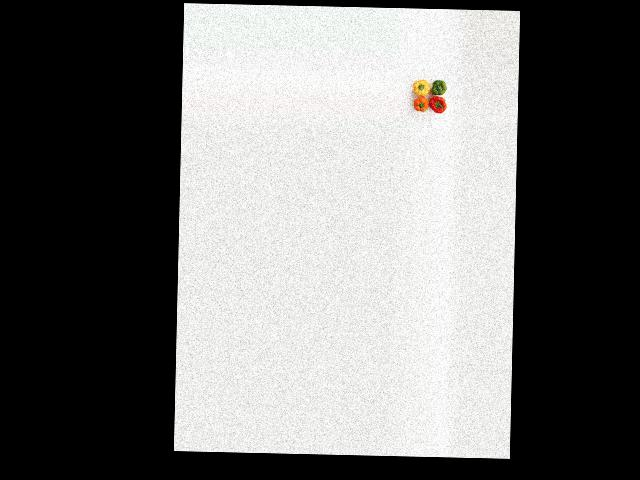bell_pepper: (429, 74, 448, 99)
